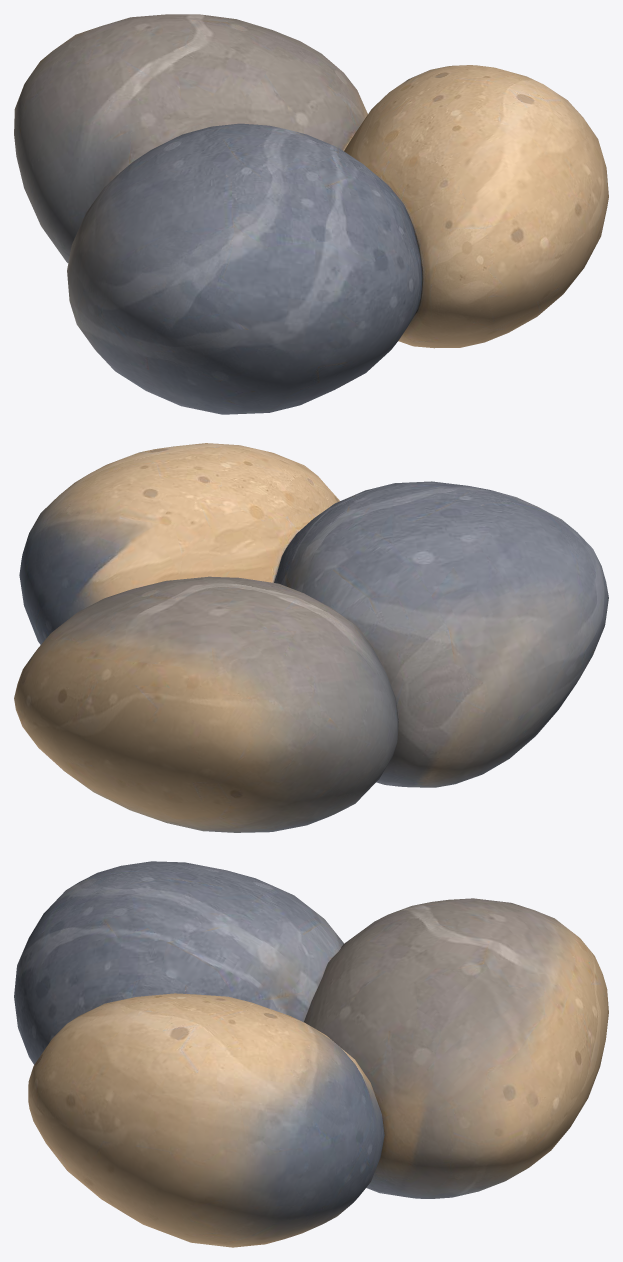
File: pebbles.glb
3 views of the same model, one above another, from view 1: azimuth 30°, elevation 25°; view 2: azimuth 150°, elevation 25°; view 3: azimuth 270°, elevation 25° (orthographic).
Parts seen in each view (by area): view 1: Mesh_0; view 2: Mesh_0; view 3: Mesh_0.
Part boxes in pixels (box(x1,y1,x2,y2)): Mesh_0: box(14, 14, 608, 414); Mesh_0: box(14, 443, 608, 832); Mesh_0: box(14, 861, 608, 1247).
Size of the model in its own units: 1 by 0.4653 by 0.9975.
1 material, 1 textured.
